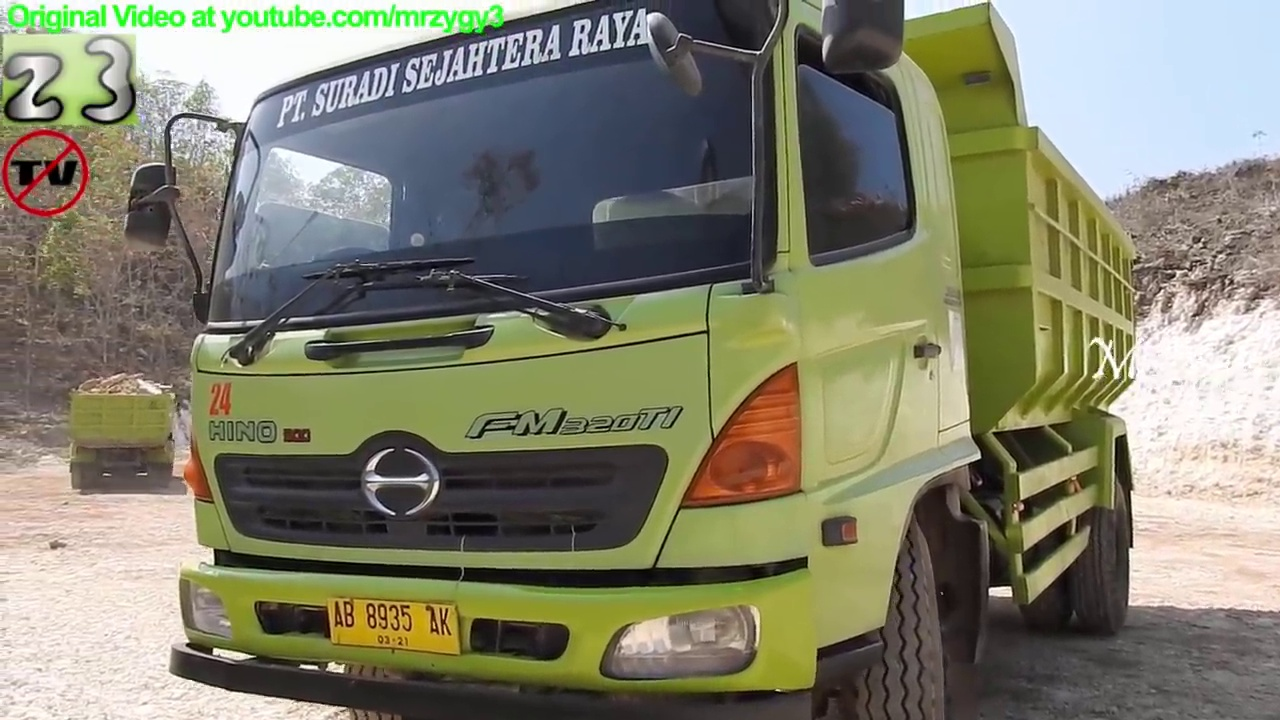truck: (116, 1, 1154, 720), (65, 378, 182, 493)
